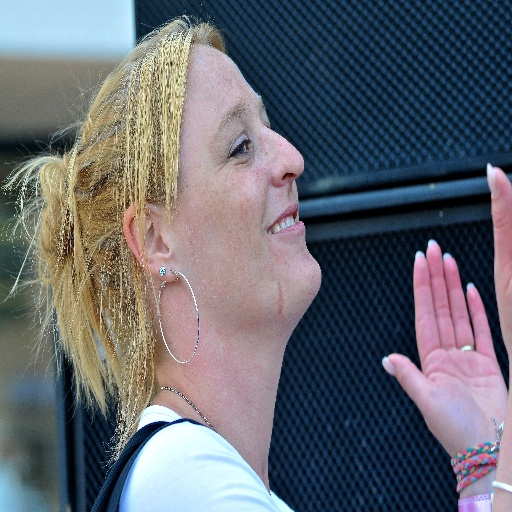hand: (382, 263, 505, 492), (484, 162, 511, 363)
